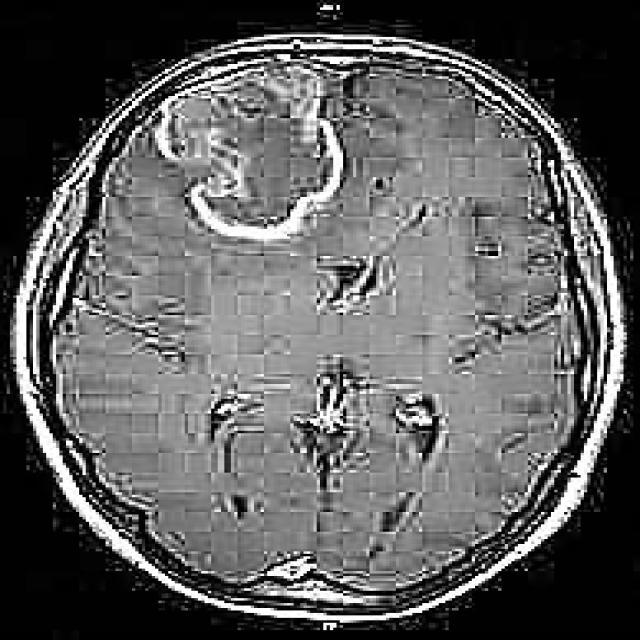brain tumor: (152, 62, 343, 239)
